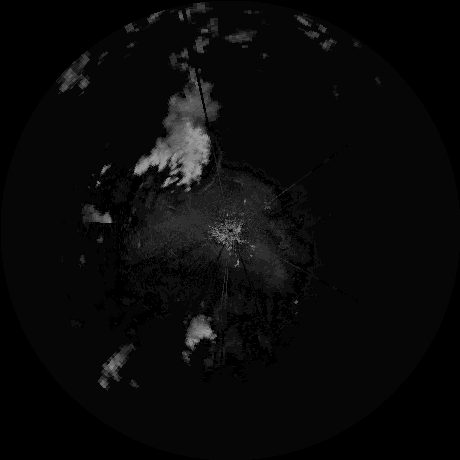frontgust: (196, 144, 223, 194)
